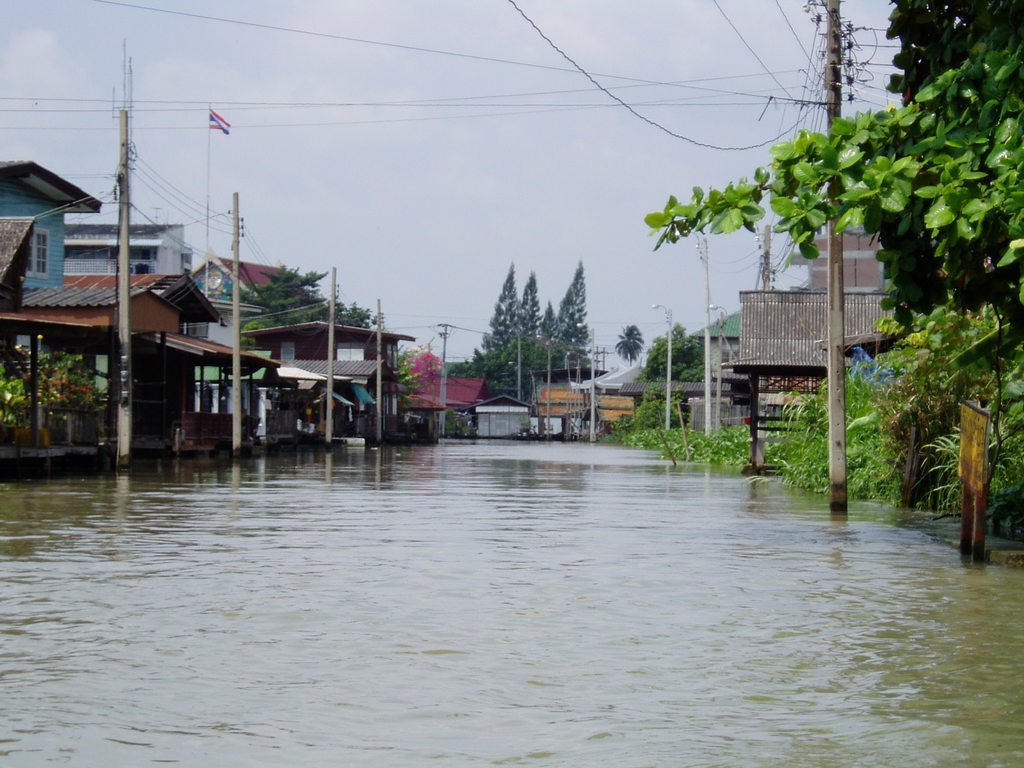Tree: (643, 0, 1024, 473), (472, 261, 592, 389), (243, 260, 375, 346), (613, 322, 644, 366)
